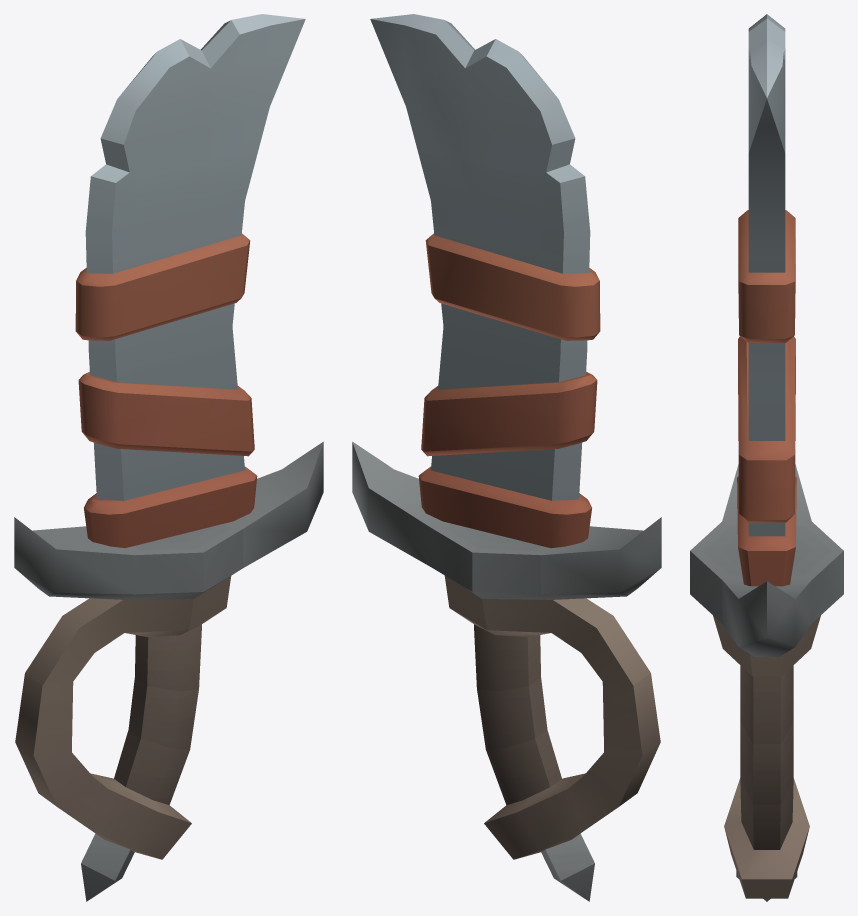
File: skeleton_blade.glb
The picture shows the model from 3 angles, left to right: view 1: azimuth 30°, elevation 25°; view 2: azimuth 150°, elevation 25°; view 3: azimuth 270°, elevation 25°; orthographic projection. The views are drawn at different scales.
Visible parts, largest first — view 1: Skeleton_Blade; view 2: Skeleton_Blade; view 3: Skeleton_Blade.
Part boxes in pixels (bbox=[...]): Skeleton_Blade: bbox=[14, 14, 323, 901]; Skeleton_Blade: bbox=[352, 14, 661, 901]; Skeleton_Blade: bbox=[690, 14, 843, 901].
Bounding box in the file's own units: 0.5727 × 1.5 × 0.2222.
Materials: 1 (1 with a texture image).
